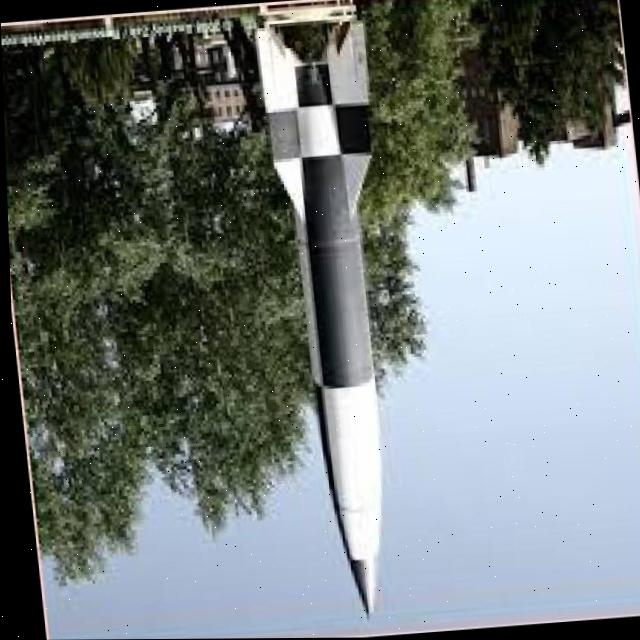missile: (235, 12, 433, 628)
